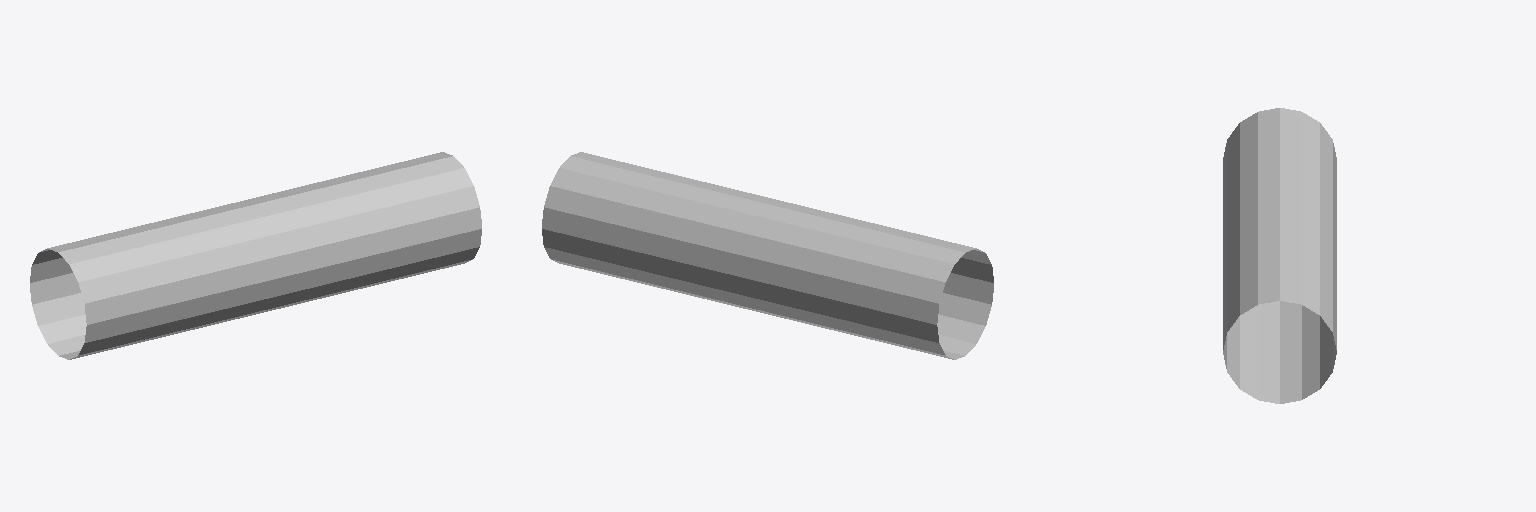
Rendered from middle_roller.obj.
3 renders of one model, left to right at view 1: azimuth 30°, elevation 25°; view 2: azimuth 150°, elevation 25°; view 3: azimuth 270°, elevation 25°, orthographic.
Visible parts, largest first — view 1: roller.002_Cylinder.015; view 2: roller.002_Cylinder.015; view 3: roller.002_Cylinder.015.
Boxes of the visible parts, box(x1,y1,x2,y2) form: roller.002_Cylinder.015: box(30, 152, 481, 359); roller.002_Cylinder.015: box(542, 152, 993, 359); roller.002_Cylinder.015: box(1223, 108, 1336, 403).
Size of the model in its own units: 1 by 0.25 by 0.25.